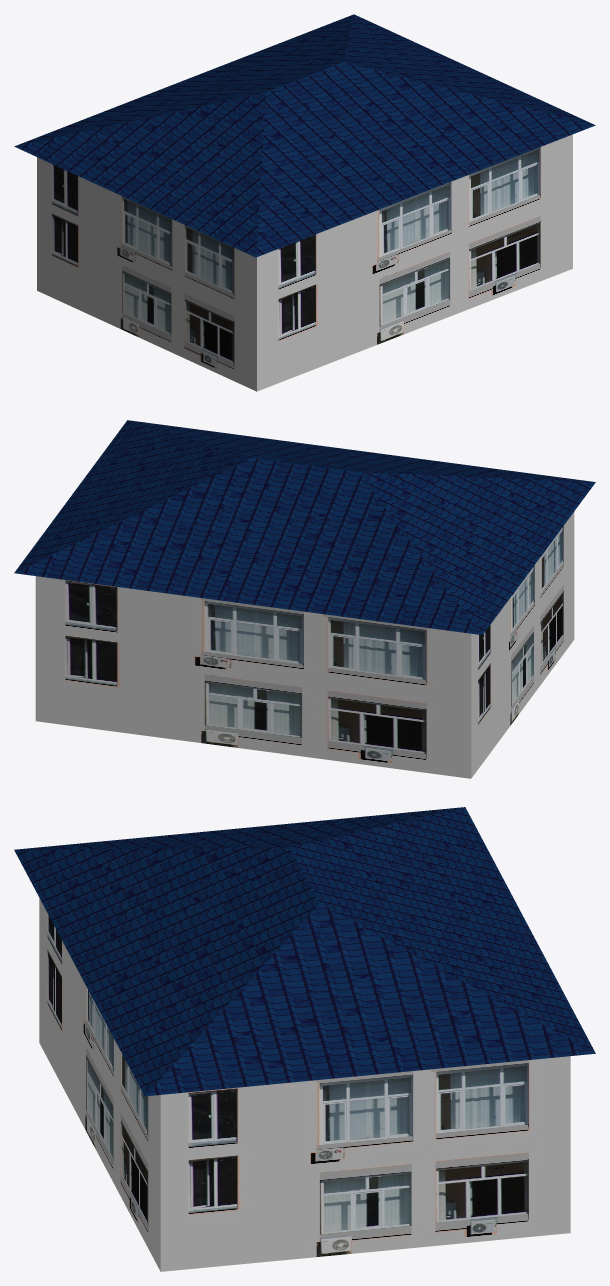
3 renders of one model, top to bottom at view 1: azimuth 30°, elevation 25°; view 2: azimuth 150°, elevation 25°; view 3: azimuth 270°, elevation 25°, orthographic. The views are drawn at different scales.
Visible parts, largest first — view 1: CityEngineMaterial_9_m, CityEngineMaterial_6_m; view 2: CityEngineMaterial_6_m, CityEngineMaterial_9_m; view 3: CityEngineMaterial_6_m, CityEngineMaterial_9_m.
Part boxes in pixels (<box>): CityEngineMaterial_9_m: <box>37,134,572,391</box>; CityEngineMaterial_6_m: <box>14,14,595,257</box>; CityEngineMaterial_6_m: <box>14,420,595,635</box>; CityEngineMaterial_9_m: <box>35,512,574,778</box>; CityEngineMaterial_6_m: <box>14,807,595,1096</box>; CityEngineMaterial_9_m: <box>39,898,570,1271</box>.
Bounding box in the file's own units: 30.48 × 12.89 × 25.9.
